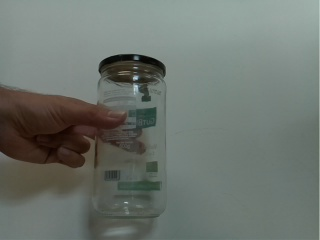pote cristal: (88, 52, 172, 224)
